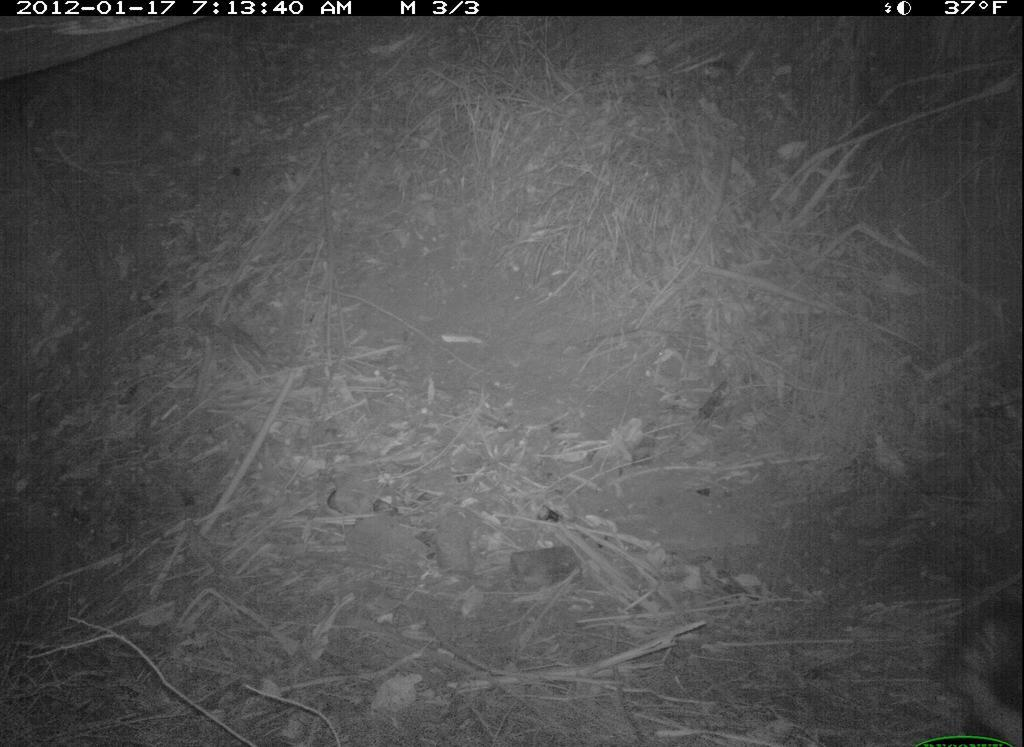skunk: (932, 587, 1023, 743)
